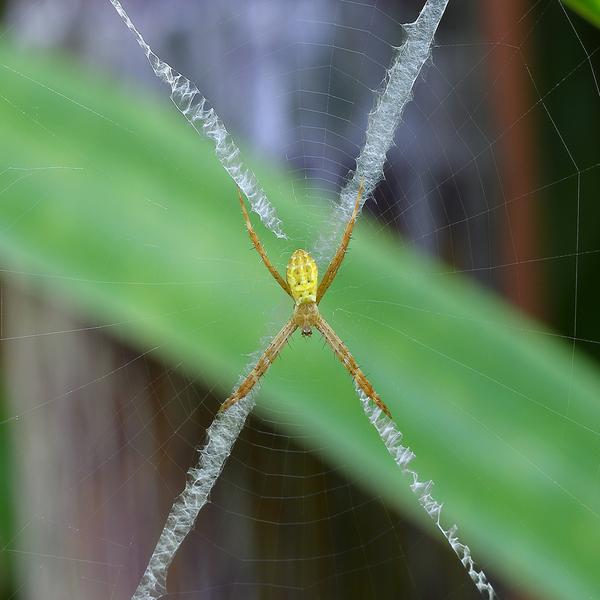St Andrew's Cross Spider: (236, 184, 389, 418)
